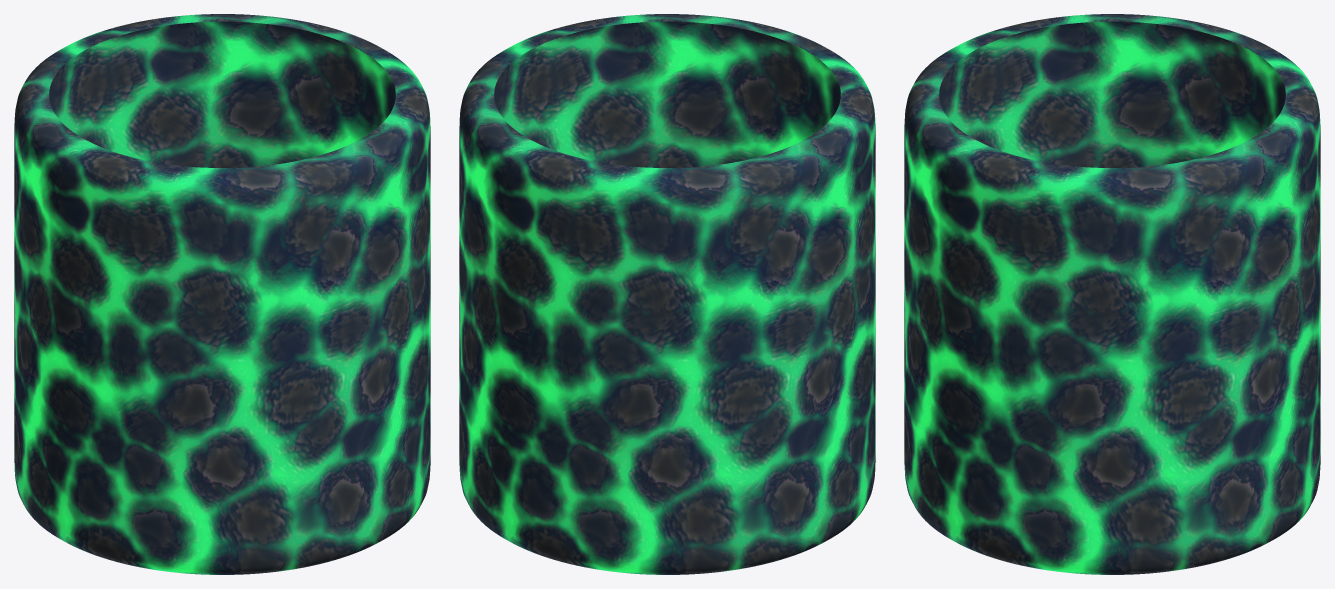
3 views of the same model, side by side, from view 1: azimuth 30°, elevation 25°; view 2: azimuth 150°, elevation 25°; view 3: azimuth 270°, elevation 25° (orthographic).
Visible parts, largest first — view 1: Rounded Cylinder; view 2: Rounded Cylinder; view 3: Rounded Cylinder.
Part boxes in pixels (<box>): Rounded Cylinder: <box>14,14,430,574</box>; Rounded Cylinder: <box>459,14,875,574</box>; Rounded Cylinder: <box>904,14,1320,574</box>.
Bounding box in the file's own units: 0.9443 × 1 × 0.9443.
